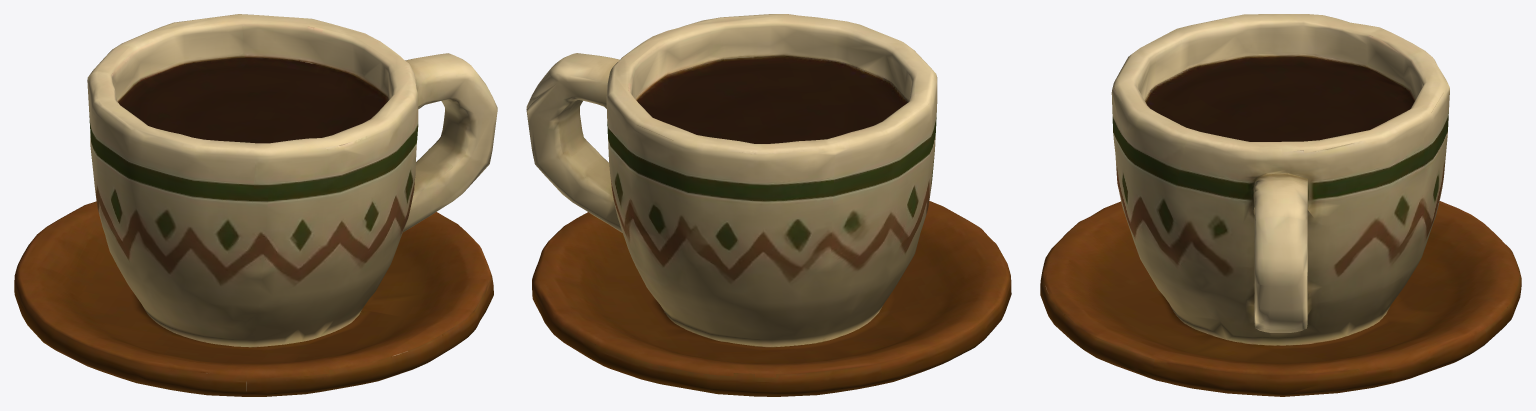
Rendered from cafe.glb.
The picture shows the model from 3 angles, left to right: view 1: azimuth 30°, elevation 25°; view 2: azimuth 150°, elevation 25°; view 3: azimuth 270°, elevation 25°; orthographic projection.
Visible parts, largest first — view 1: Mesh_0; view 2: Mesh_0; view 3: Mesh_0.
Part boxes in pixels (x1,y1,x2,y2): Mesh_0: [14, 14, 497, 396]; Mesh_0: [526, 14, 1011, 396]; Mesh_0: [1040, 14, 1521, 396].
Bounding box in the file's own units: 0.2352 × 0.12 × 0.2197.
1 material, 1 textured.
